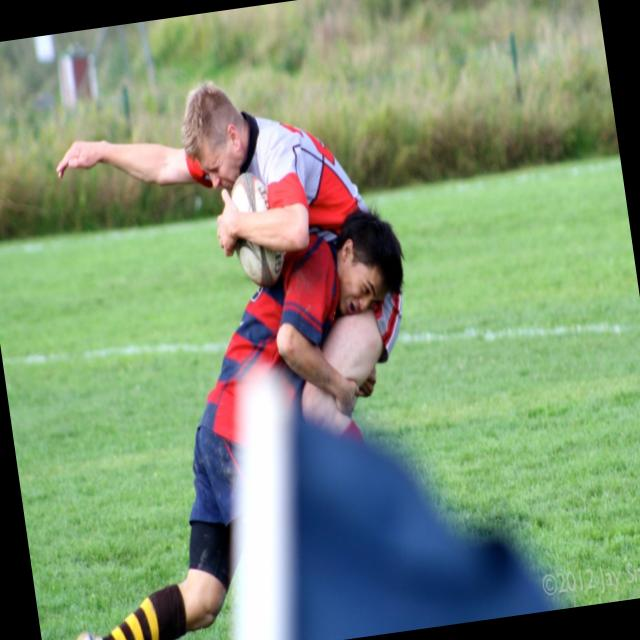Ball: (226, 170, 288, 288)
